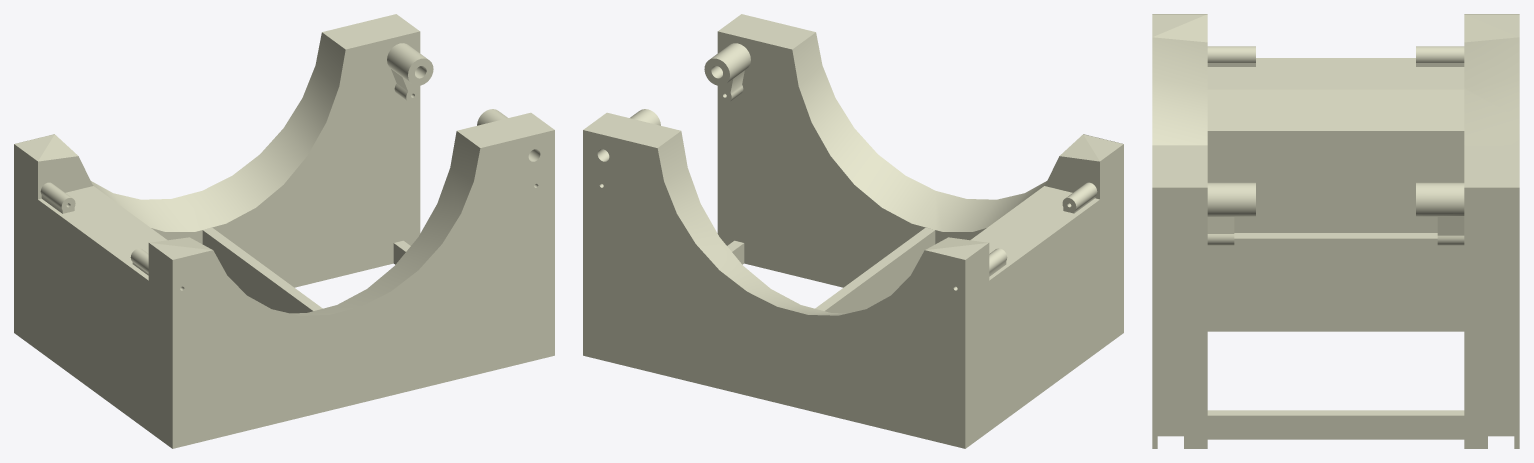
The model's file is AutoSave_baseNovaAmbu_Corrigida2.dae.
The picture shows the model from 3 angles, left to right: view 1: azimuth 30°, elevation 25°; view 2: azimuth 150°, elevation 25°; view 3: azimuth 270°, elevation 25°; orthographic projection. The views are drawn at different scales.
Visible parts, largest first — view 1: SketchUp (×2); view 2: SketchUp (×2); view 3: SketchUp (×3).
Boxes of the visible parts, <box> form: SketchUp (×2): <box>14,14,554,448</box>; SketchUp (×2): <box>583,14,1123,448</box>; SketchUp (×3): <box>1152,14,1519,448</box>.
Bounding box in the file's own units: 7.68 × 5.51 × 4.33.
